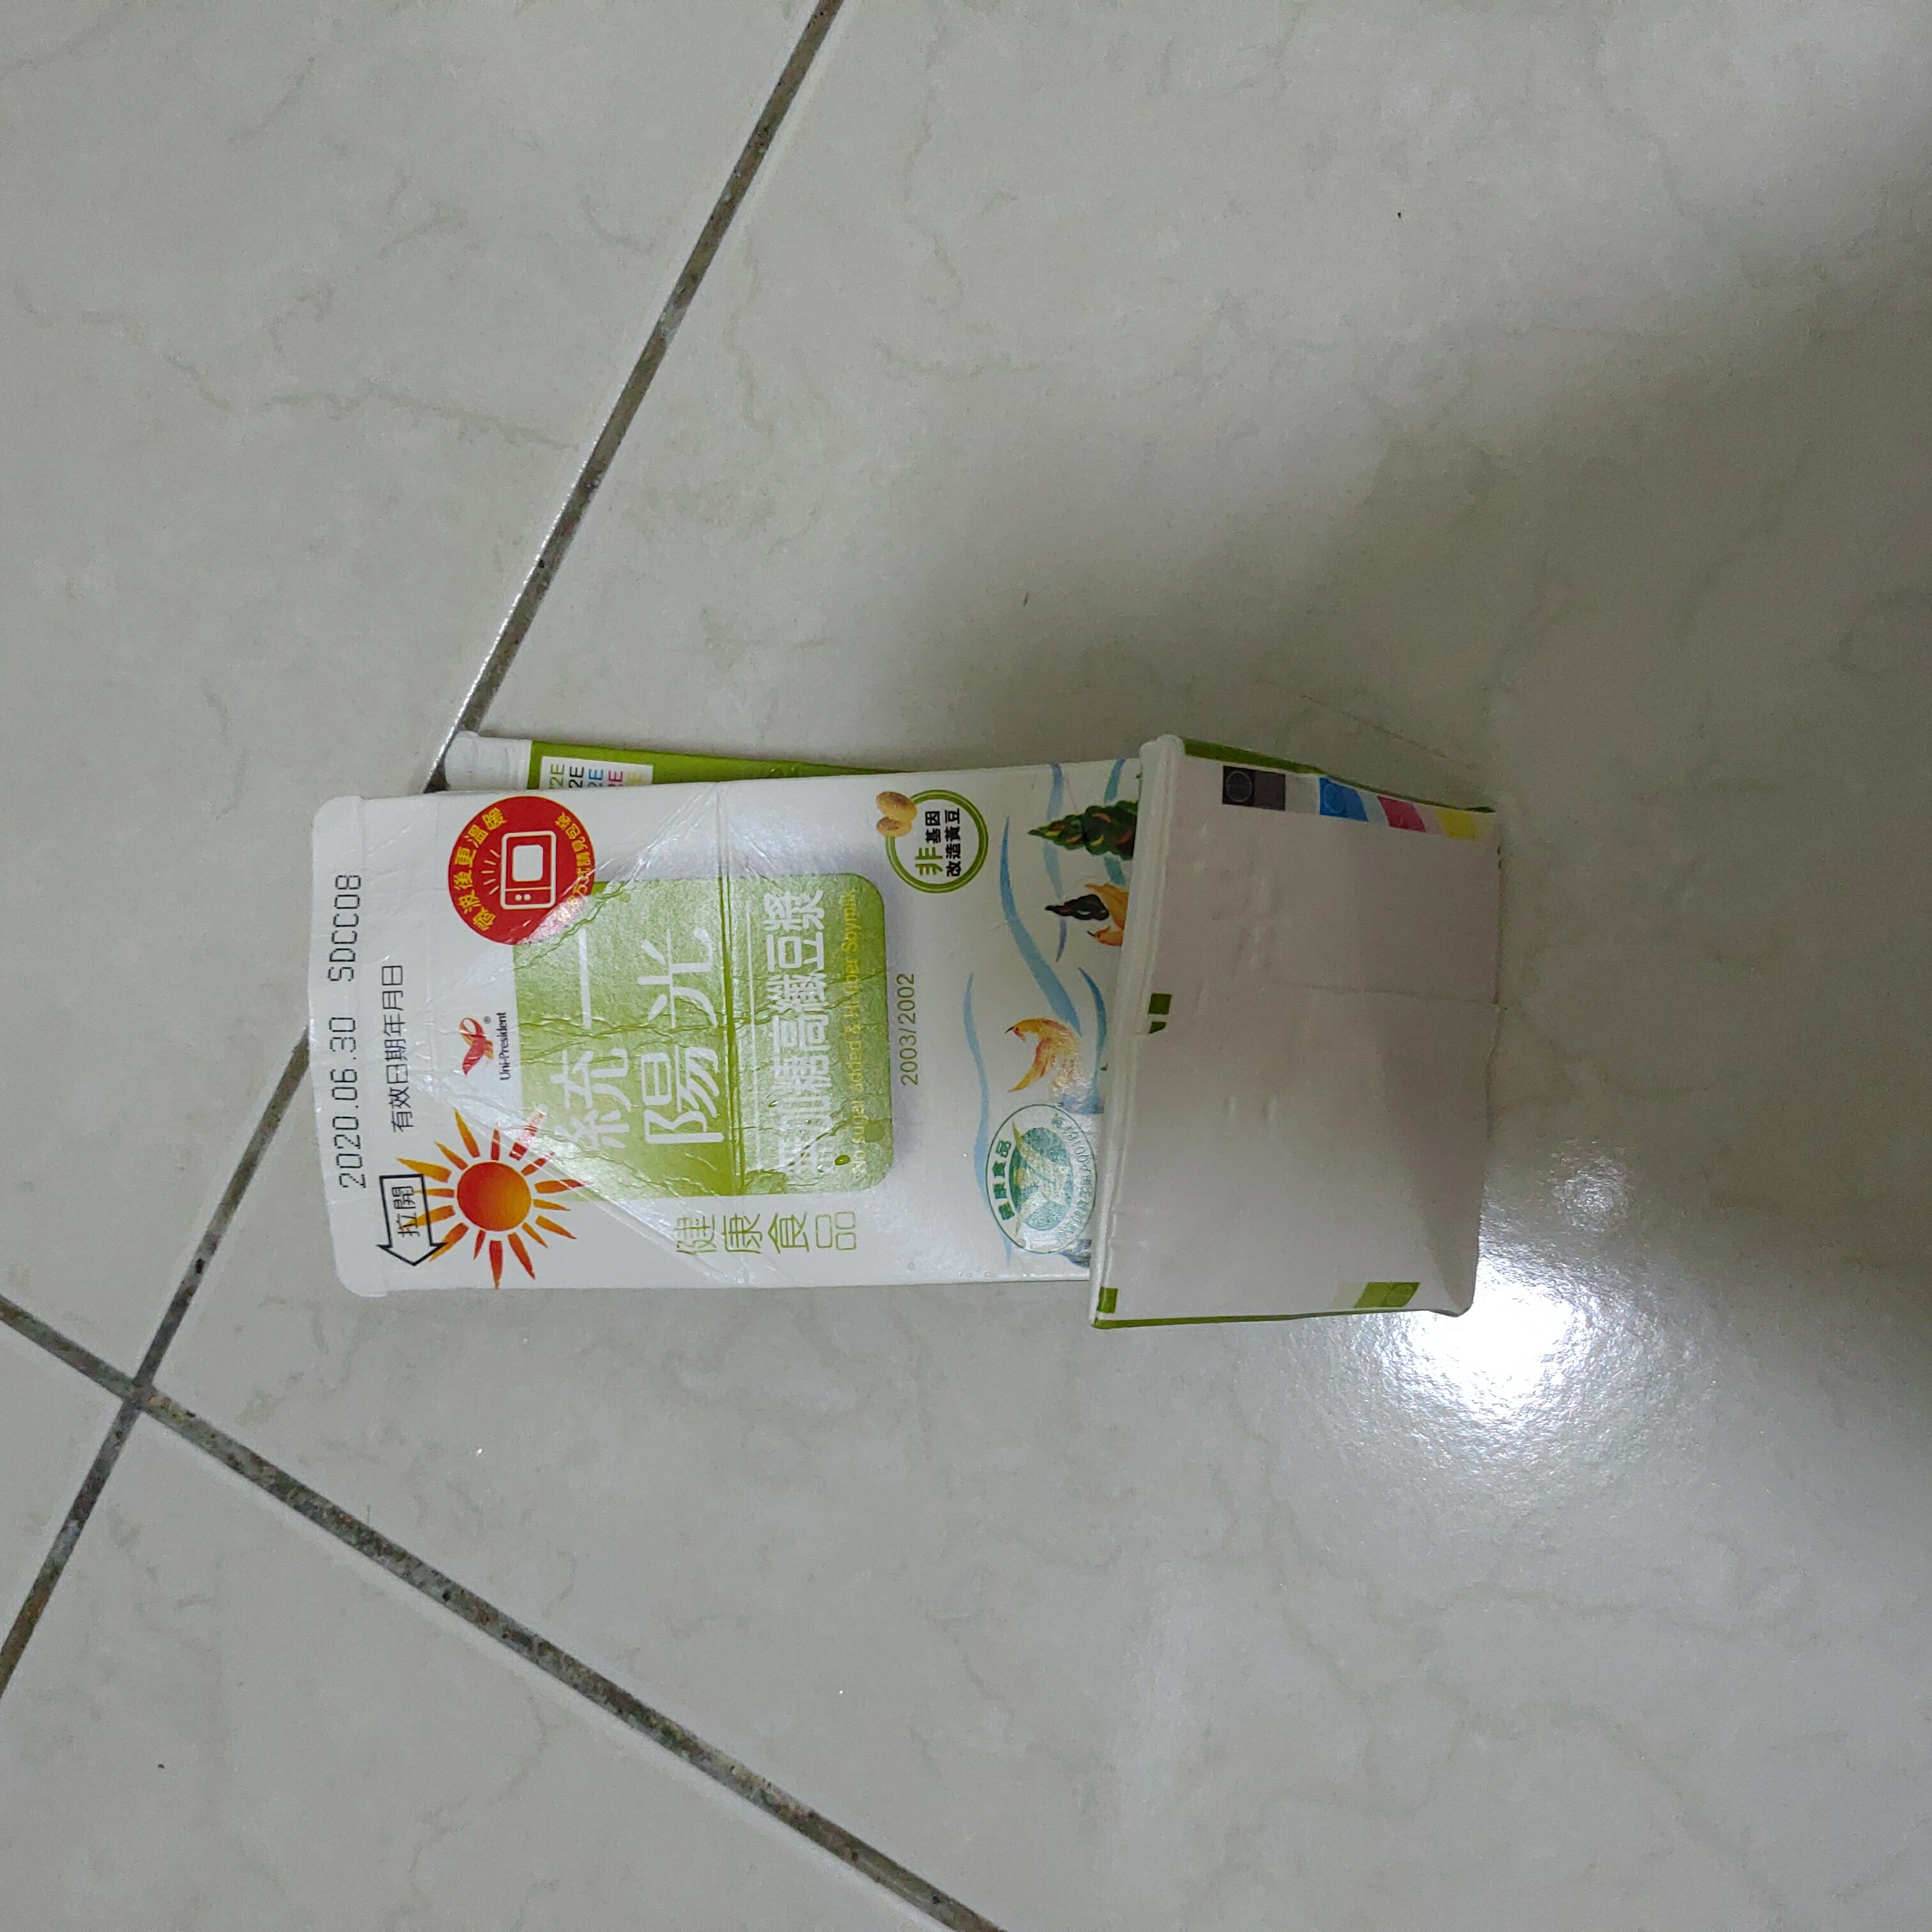Paper: (288, 715, 1529, 1353)
